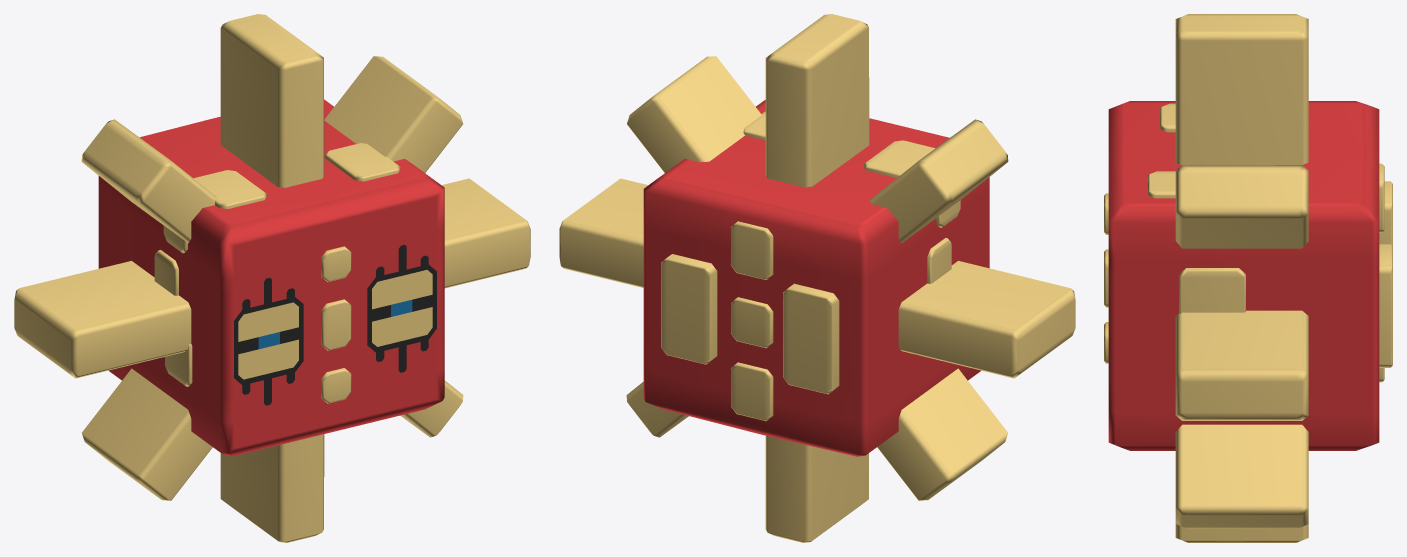
Rendered from model_shiny.obj.
3 views of the same model, side by side, from view 1: azimuth 30°, elevation 25°; view 2: azimuth 150°, elevation 25°; view 3: azimuth 270°, elevation 25° (orthographic). The views are drawn at different scales.
Visible parts, largest first — view 1: 0338_solrock_shiny; view 2: 0338_solrock_shiny; view 3: 0338_solrock_shiny.
Part boxes in pixels (x1=…): 0338_solrock_shiny: x1=14, y1=14, x2=530, y2=542; 0338_solrock_shiny: x1=559, y1=14, x2=1075, y2=542; 0338_solrock_shiny: x1=1104, y1=14, x2=1392, y2=542.
Bounding box in the file's own units: 2.4 × 2.4 × 1.23.
Materials: 1 (1 with a texture image).
